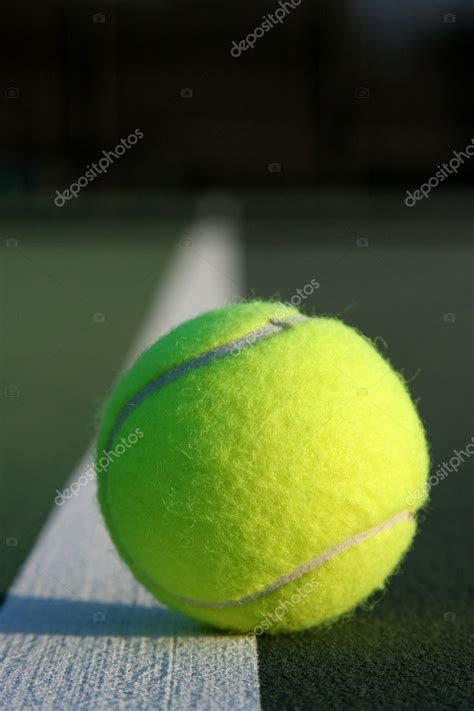tennis_ball: (95, 301, 431, 634)
